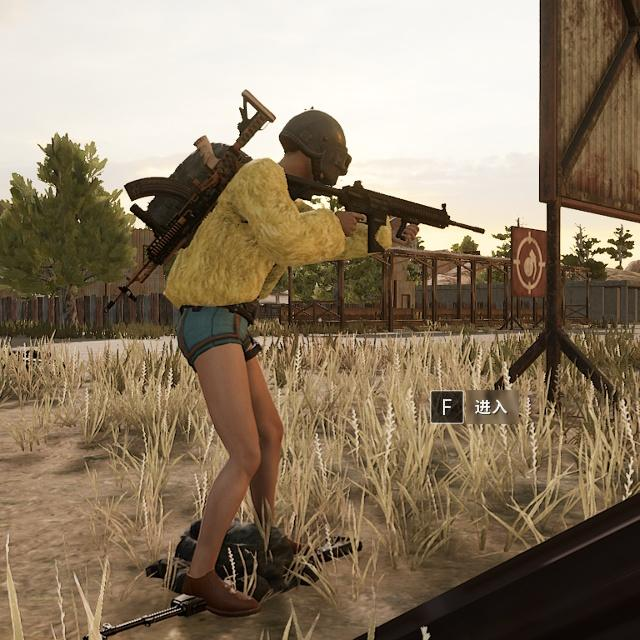head: (278, 108, 354, 190)
people: (159, 107, 363, 609)
